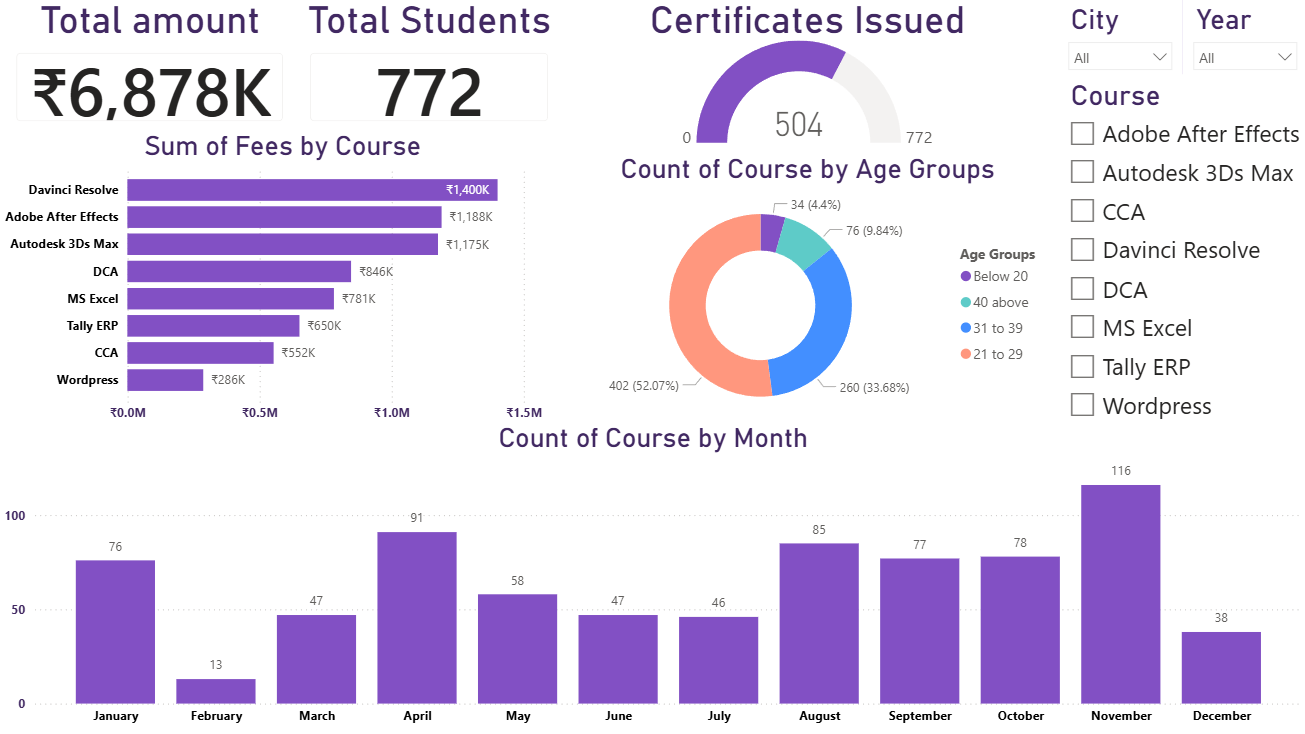

Layout of this report page (visuals, bound fields, positions):
{"tool":"powerbi","page":{"name":"School report","canvas":[1280,720],"ordinal":0},"visuals":[{"type":"donutChart","fields":{"Y":["CountNonNull(Student Course Details.Course)"],"Category":["Student Course Details.Age (groups)"]},"box":[545.4,151.6,491.6,272.7],"z":1000},{"type":"cardVisual","title":"Total amount","fields":{"Data":["Sum(Student Course Details.Fees)"]},"box":[0,0,295.9,138.2],"z":3000},{"type":"gauge","fields":{"Y":["personal details.countYes"]},"box":[545.4,0,491.6,151.6],"z":4000},{"type":"cardVisual","title":"Total Students","fields":{"Data":["CountNonNull(Student Course Details.Student Name)"]},"box":[287.4,0,267.8,138.2],"z":5000},{"type":"clusteredBarChart","fields":{"Category":["Student Course Details.Course"],"Y":["Sum(Student Course Details.Fees)"]},"box":[0,128.4,555.2,295.9],"z":5500},{"type":"slicer","fields":{"Values":["Student Course Details.Date of Join.Variation.Date Hierarchy.Year"]},"box":[1158,0,122.3,75.8],"z":6000},{"type":"slicer","fields":{"Values":["personal details.City"]},"box":[1035.7,0,122.3,75.8],"z":7000},{"type":"slicer","fields":{"Values":["Student Course Details.Course"]},"box":[1035.7,74.6,244.6,362],"z":8000},{"type":"clusteredColumnChart","fields":{"Category":["Student Course Details.Date of Join.Variation.Date Hierarchy.Month"],"Y":["CountNonNull(Student Course Details.Course)"]},"box":[0,414.5,1280.3,305.7],"z":9000}]}

Visuals, with their boxes in screenshot pixels (x1, y1, x2, y2), scaled from the page's 1280x720 canvas onto the 1305x734 screenshot:
donutChart - CountNonNull(Student Course Details.Course) x Student Course Details.Age (groups): {"left": 556, "top": 155, "right": 1057, "bottom": 433}
"Total amount" cardVisual: {"left": 0, "top": 0, "right": 302, "bottom": 141}
gauge - personal details.countYes: {"left": 556, "top": 0, "right": 1057, "bottom": 155}
"Total Students" cardVisual: {"left": 293, "top": 0, "right": 566, "bottom": 141}
clusteredBarChart - Student Course Details.Course x Sum(Student Course Details.Fees): {"left": 0, "top": 131, "right": 566, "bottom": 433}
slicer - Student Course Details.Date of Join.Variation.Date Hierarchy.Year: {"left": 1181, "top": 0, "right": 1304, "bottom": 77}
slicer - personal details.City: {"left": 1056, "top": 0, "right": 1181, "bottom": 77}
slicer - Student Course Details.Course: {"left": 1056, "top": 76, "right": 1304, "bottom": 445}
clusteredColumnChart - Student Course Details.Date of Join.Variation.Date Hierarchy.Month x CountNonNull(Student Course Details.Course): {"left": 0, "top": 423, "right": 1304, "bottom": 733}
